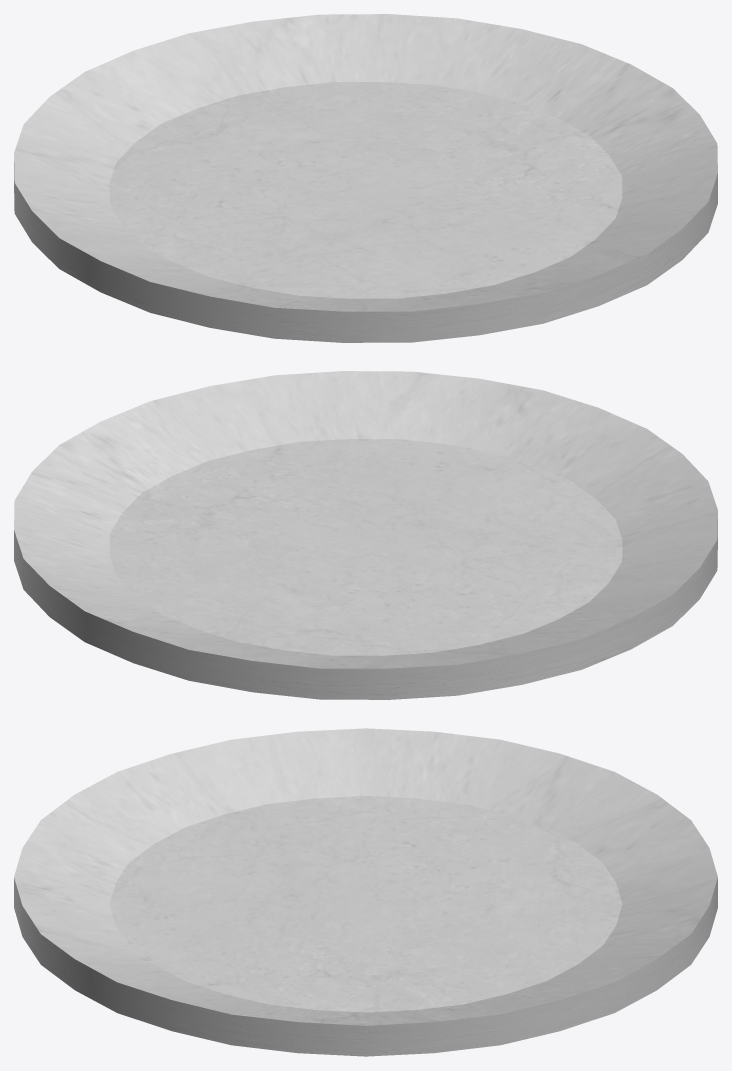
Rendered from Plato2.fbx.
3 views of the same model, one above another, from view 1: azimuth 30°, elevation 25°; view 2: azimuth 150°, elevation 25°; view 3: azimuth 270°, elevation 25° (orthographic).
Visible parts, largest first — view 1: Cylinder.001; view 2: Cylinder.001; view 3: Cylinder.001.
Part boxes in pixels (<box>): Cylinder.001: <box>14,14,717,342</box>; Cylinder.001: <box>14,371,717,699</box>; Cylinder.001: <box>14,728,717,1056</box>.
Size of the model in its own units: 91.49 by 4.47 by 91.49.
Materials: 1 (1 with a texture image).
